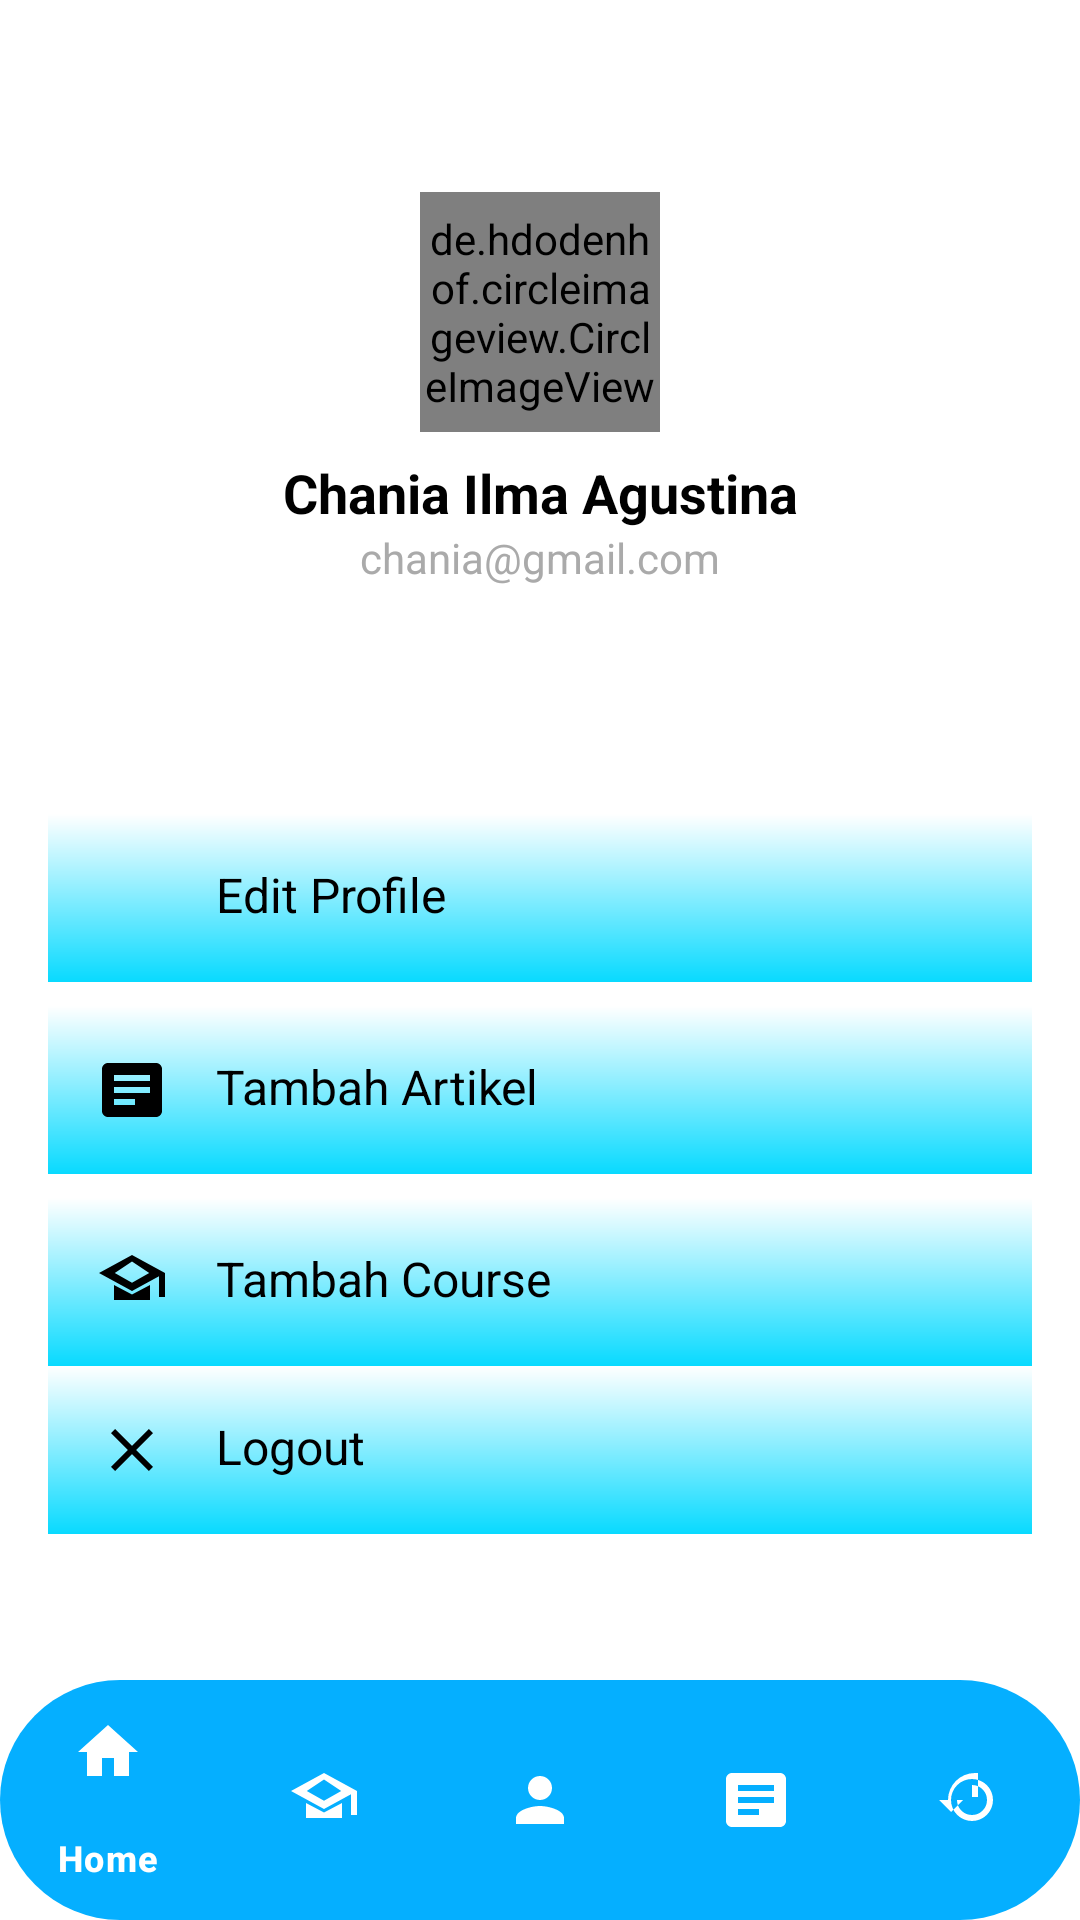

Icons on this 1080x1920 Android screen, each with the point to tap as point (x, y):
Add Article: point (132, 1090)
